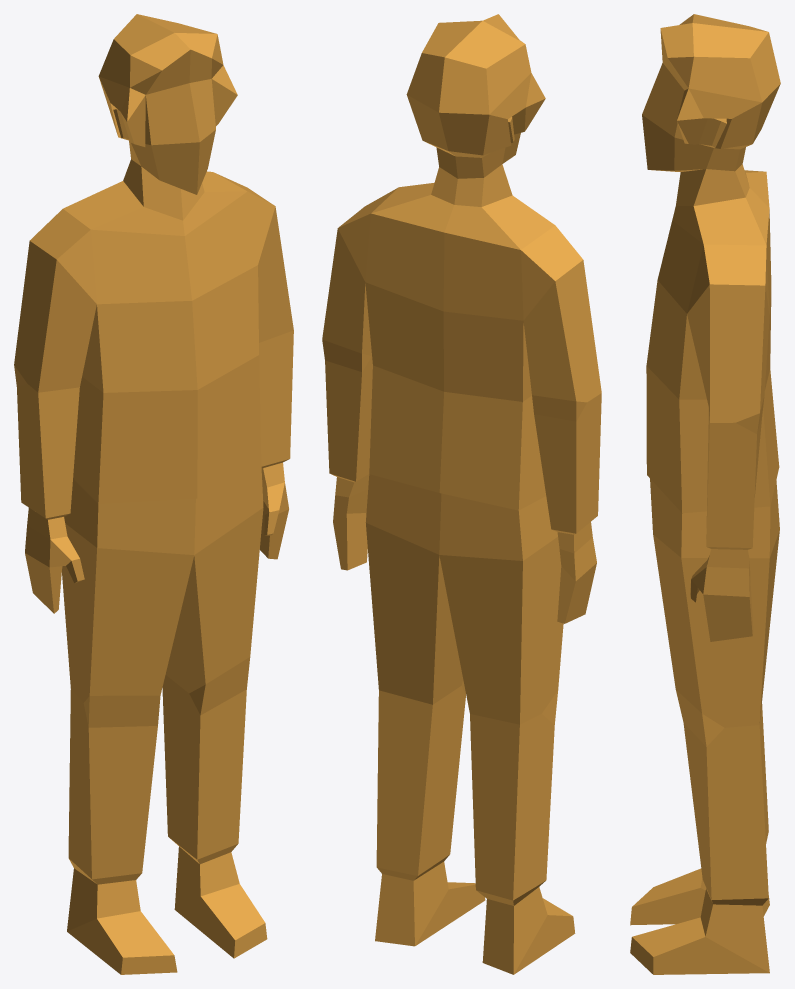
The model's file is man-guy.fbx.
The picture shows the model from 3 angles, left to right: view 1: azimuth 30°, elevation 25°; view 2: azimuth 150°, elevation 25°; view 3: azimuth 270°, elevation 25°; orthographic projection.
Parts seen in each view (by area): view 1: man-guy; view 2: man-guy; view 3: man-guy.
Boxes of the visible parts, x1,y1,x2,y2 form: man-guy: (14,14,293,974); man-guy: (322,14,601,974); man-guy: (630,14,780,974).
Size of the model in its own units: 0.5438 by 1.85 by 0.2757.
